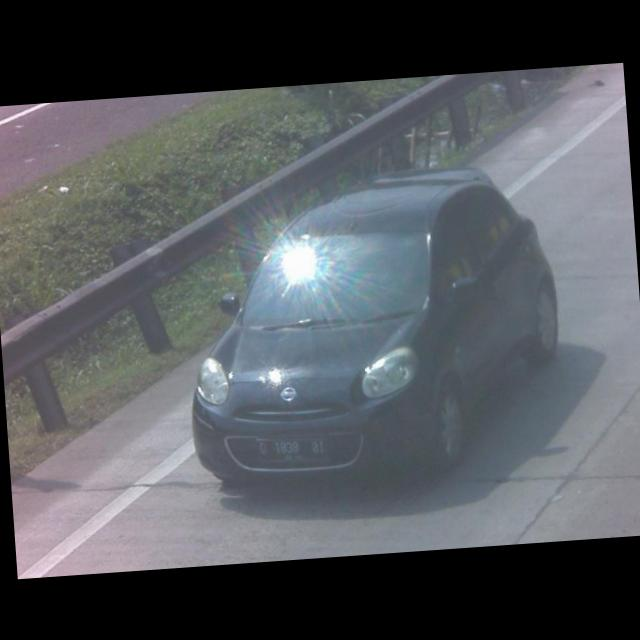plate: (254, 432, 328, 463)
